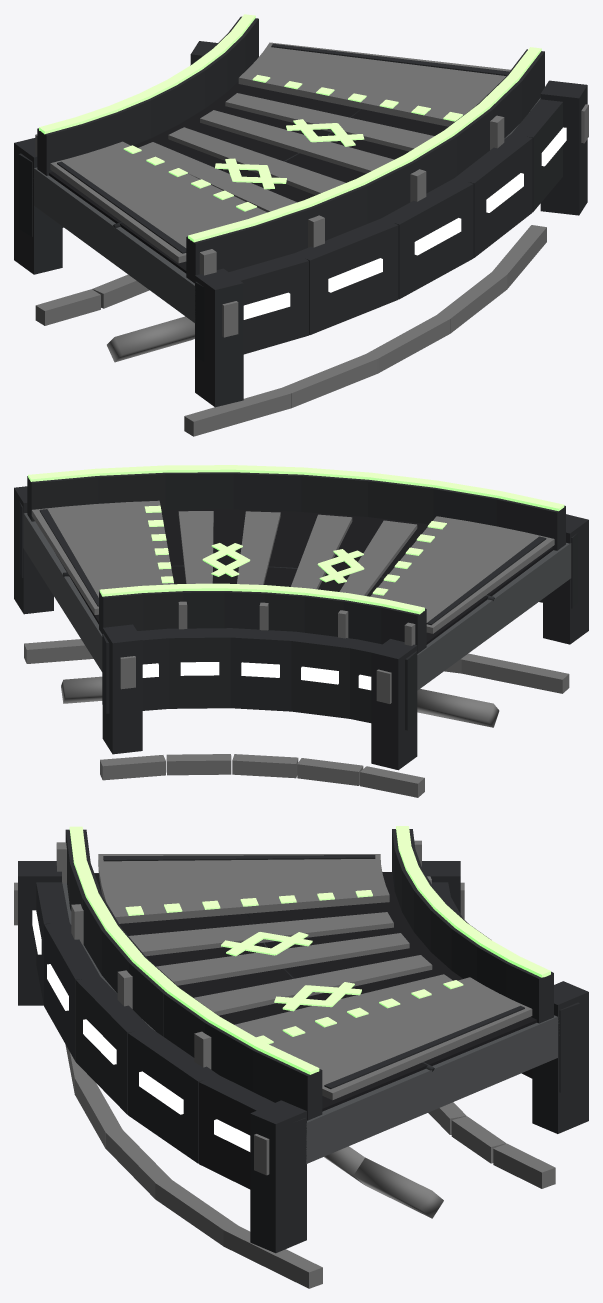
File: Curve_45_Conveyor_Belt_v4.glb
3 views of the same model, one above another, from view 1: azimuth 30°, elevation 25°; view 2: azimuth 150°, elevation 25°; view 3: azimuth 270°, elevation 25° (orthographic). The views are drawn at different scales.
Visible parts, largest first — view 1: Curve_45_Conveyor_Belt_v4, TreadsRev, Treads; view 2: Curve_45_Conveyor_Belt_v4, Treads, TreadsRev; view 3: Curve_45_Conveyor_Belt_v4, Treads, TreadsRev.
Boxes of the visible parts, box(x1,y1,x2,y2) form: Curve_45_Conveyor_Belt_v4: box(14, 14, 588, 436); TreadsRev: box(138, 93, 433, 212); Treads: box(139, 93, 434, 212); Curve_45_Conveyor_Belt_v4: box(14, 465, 588, 797); Treads: box(178, 511, 415, 595); TreadsRev: box(179, 511, 417, 595); Curve_45_Conveyor_Belt_v4: box(14, 826, 588, 1288); Treads: box(129, 912, 452, 1037); TreadsRev: box(128, 912, 452, 1035).
Size of the model in its own units: 4.83 by 1.83 by 4.44.
